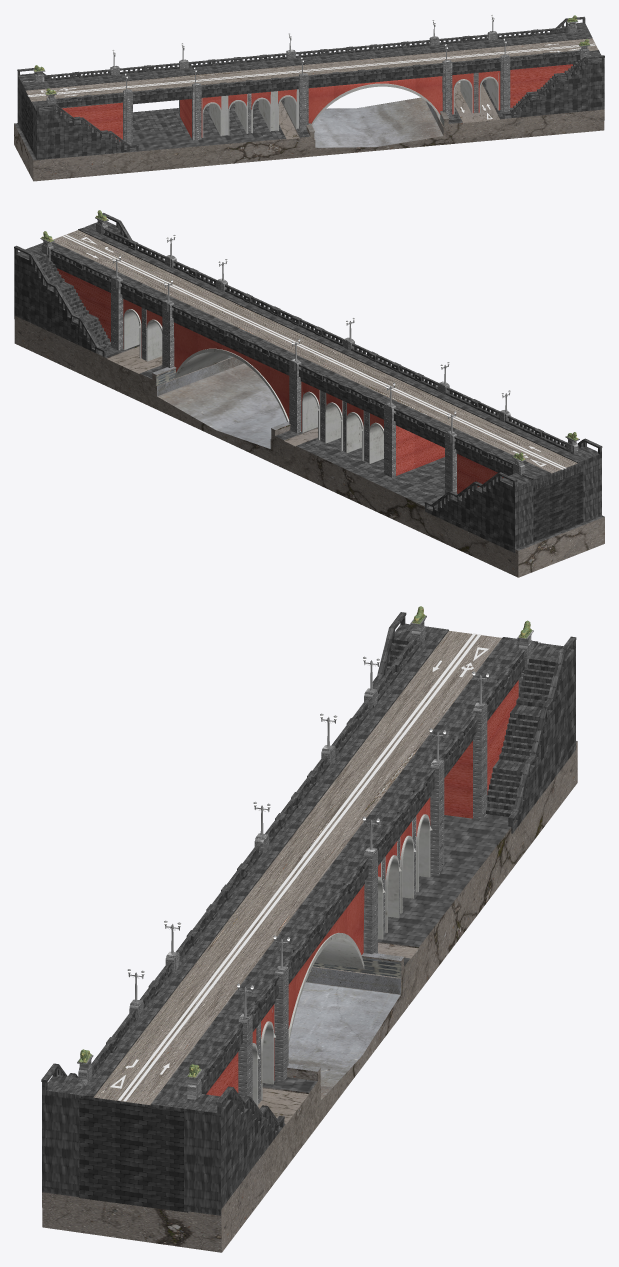
The picture shows the model from 3 angles, top to bottom: view 1: azimuth 30°, elevation 25°; view 2: azimuth 150°, elevation 25°; view 3: azimuth 270°, elevation 25°; orthographic projection. The views are drawn at different scales.
Parts seen in each view (by area): view 1: LUZ_BARANDA, cauce, PILARES, odt, object 4, farolas; view 2: LUZ_BARANDA, cauce, PILARES, odt, object 4, farolas; view 3: LUZ_BARANDA, cauce, PILARES, odt, object 4, farolas.
Part boxes in pixels (x1,y1,x2,y2): LUZ_BARANDA: (17, 16, 604, 159); cauce: (14, 81, 604, 181); PILARES: (21, 20, 590, 151); odt: (201, 71, 500, 137); object 4: (27, 43, 595, 119); farolas: (112, 15, 506, 90); LUZ_BARANDA: (14, 213, 602, 552); cauce: (14, 316, 604, 577); PILARES: (40, 217, 583, 541); odt: (123, 299, 383, 463); object 4: (62, 234, 566, 469); farolas: (112, 235, 510, 433); LUZ_BARANDA: (41, 612, 576, 1215); cauce: (42, 741, 577, 1252); PILARES: (77, 615, 540, 1212); odt: (252, 797, 432, 1106); object 4: (110, 633, 488, 1101); farolas: (127, 656, 489, 1016).
Bounding box in the file's own units: 134 × 23.53 × 61.64.
16 materials, 12 textured.
